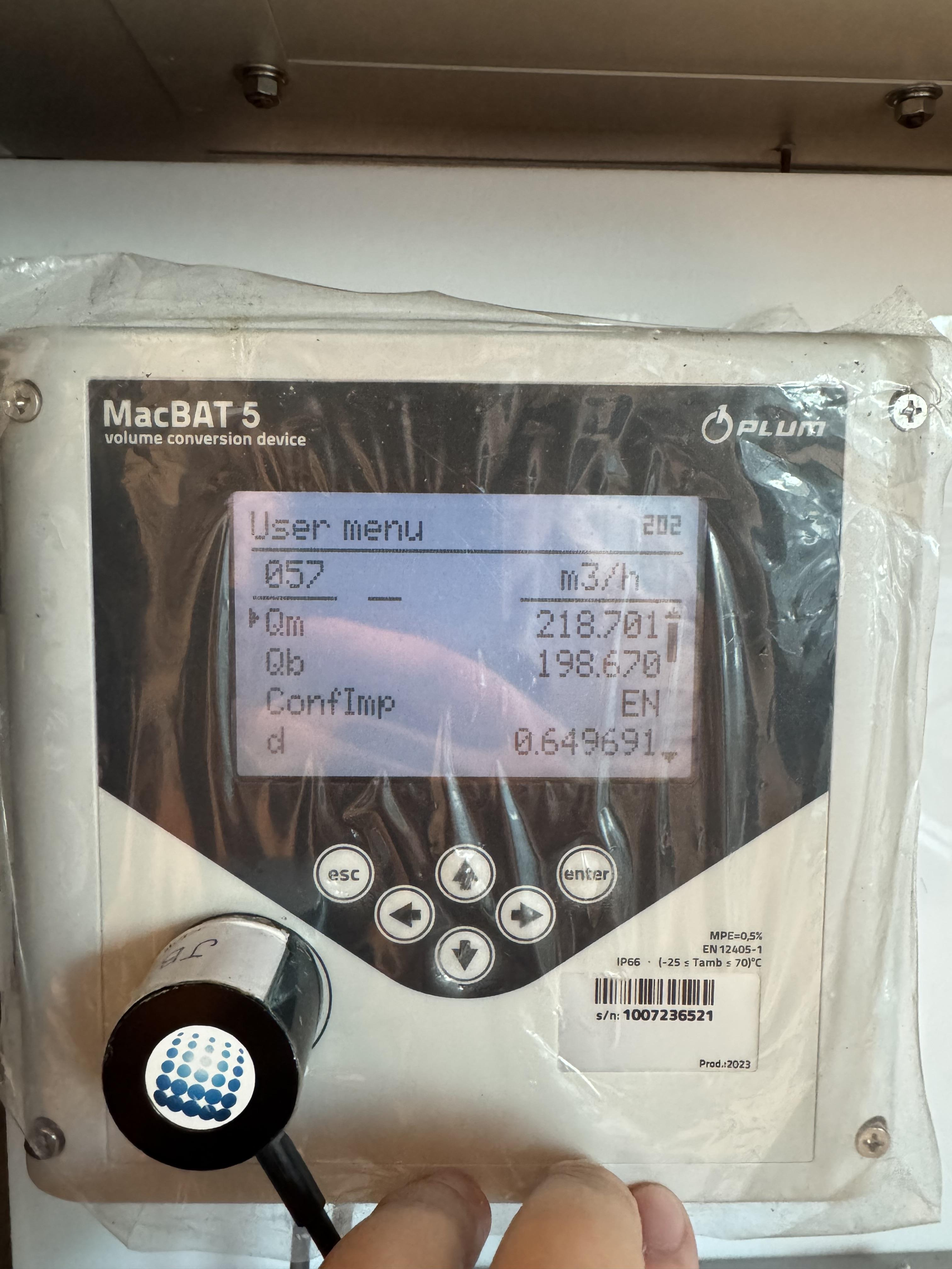digital_screen: (229, 492, 705, 781)
